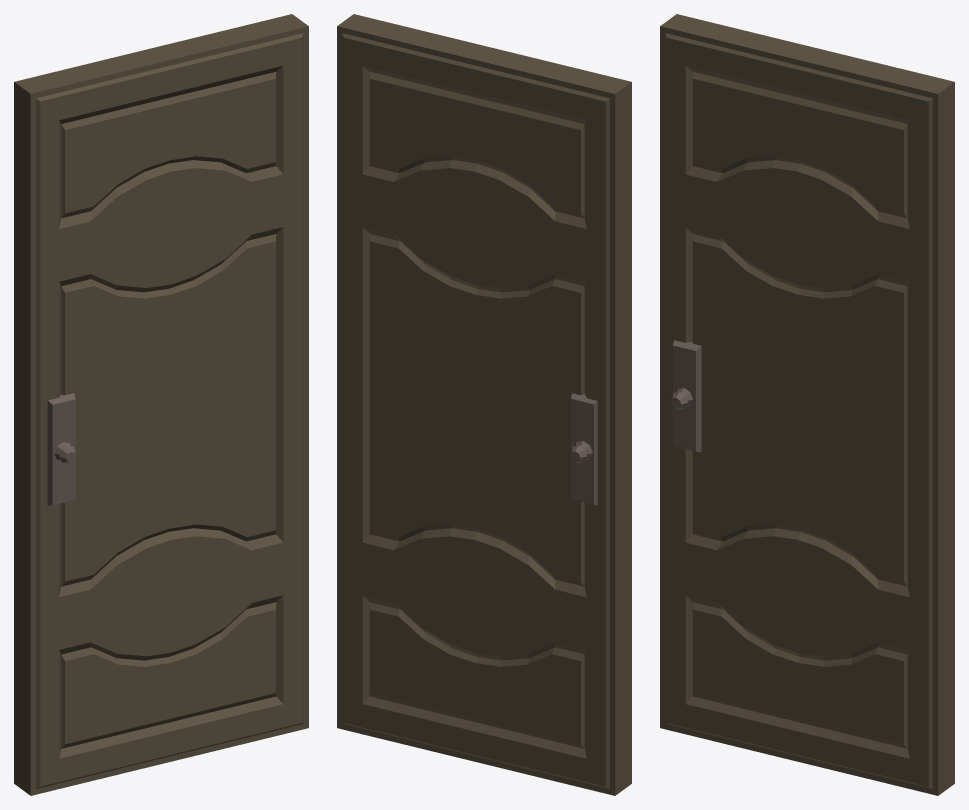
Rendered from Door_8.glb.
The picture shows the model from 3 angles, left to right: view 1: azimuth 30°, elevation 25°; view 2: azimuth 150°, elevation 25°; view 3: azimuth 330°, elevation 25°; orthographic projection.
Visible parts, largest first — view 1: Door_8; view 2: Door_8; view 3: Door_8.
Part boxes in pixels (x1,y1,x2,y2): Door_8: (14, 14, 308, 795); Door_8: (337, 14, 631, 795); Door_8: (660, 14, 954, 795).
Size of the model in its own units: 1.74 by 4.2 by 0.4424.
